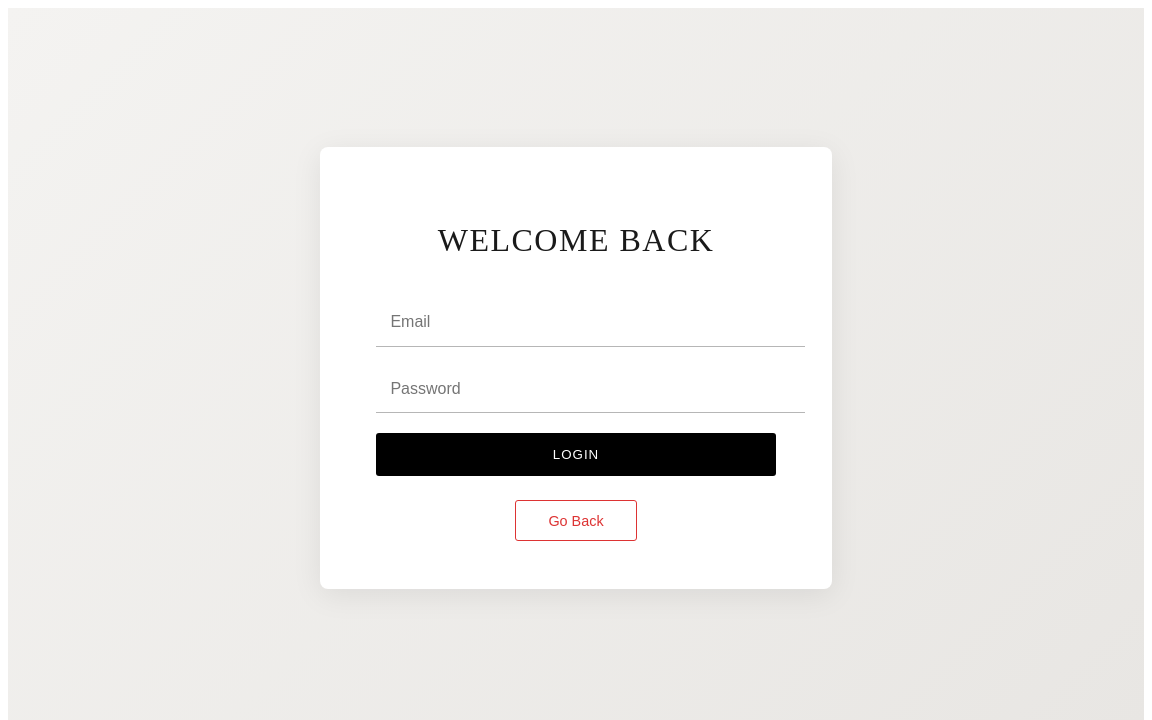
Test case: Login Form › Simulates user inserting data and having a successful login
The image size is (1152, 720).
Type "djuro@gmail.com" into the field with placeholder "Email" at (590, 323), box [376,299,805,346]
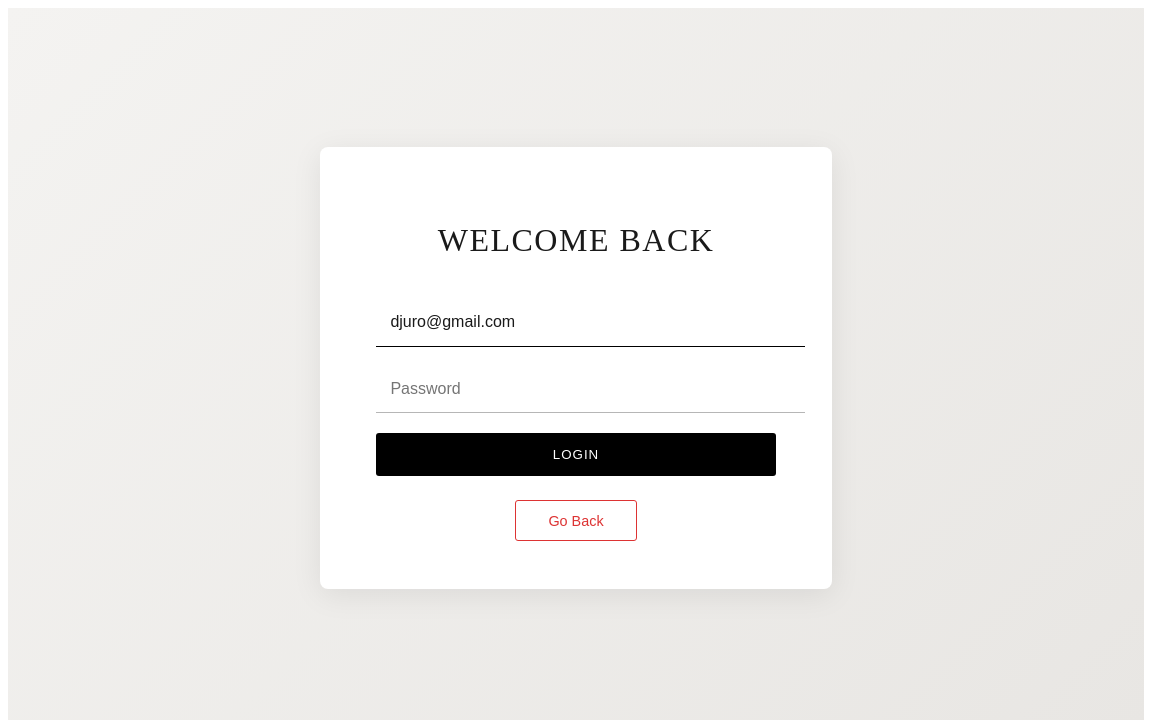
Type "12345678" into the password field with placeholder "Password" at (590, 390), box [376,366,805,414]
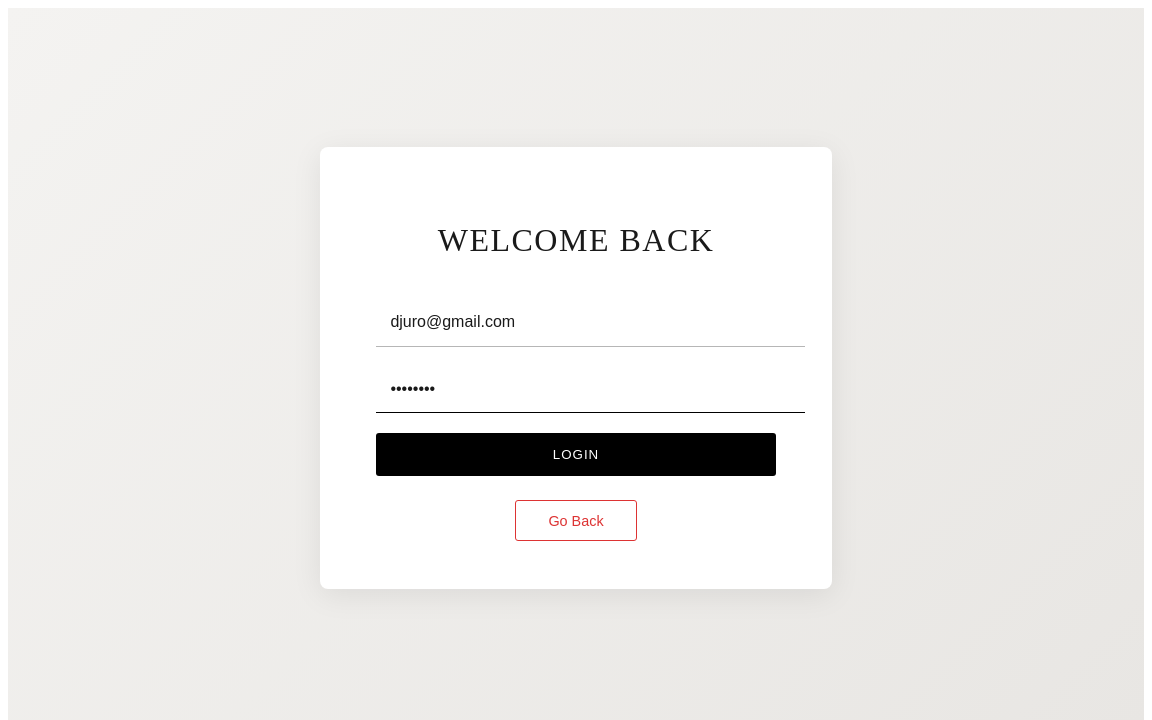
Click the button "Login" at (576, 455), box [376,433,776,476]
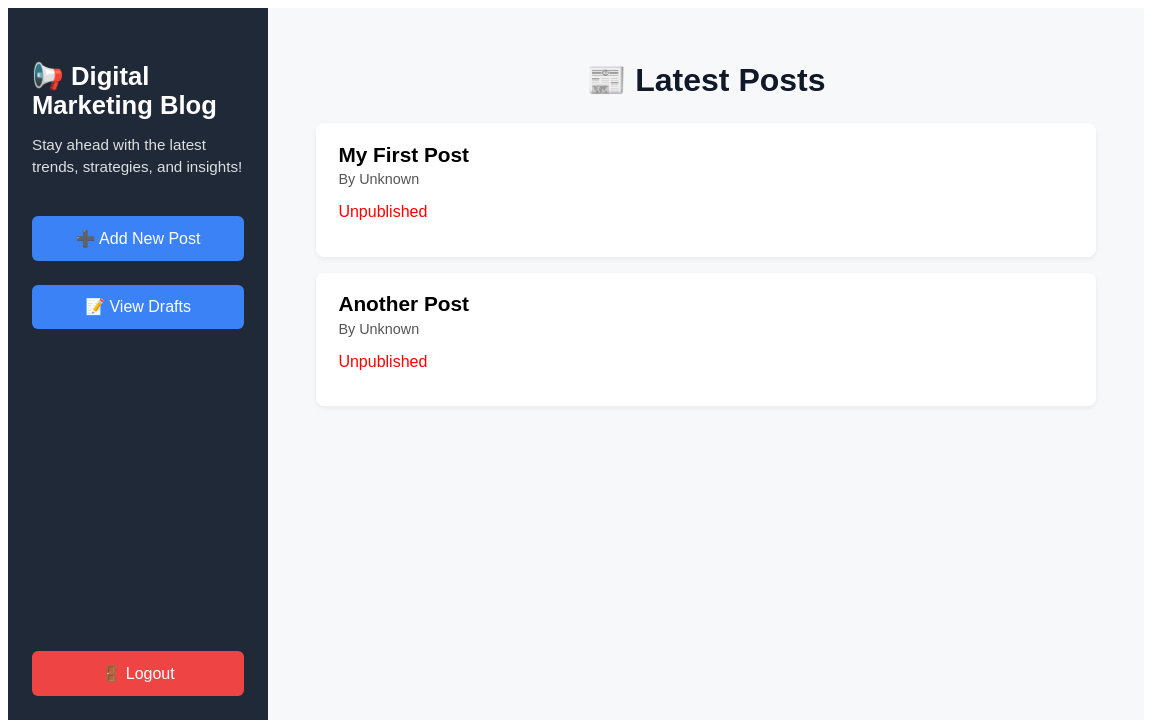
Expected: the heading "📰 Latest Posts" is shown, [586,62,826,98]
